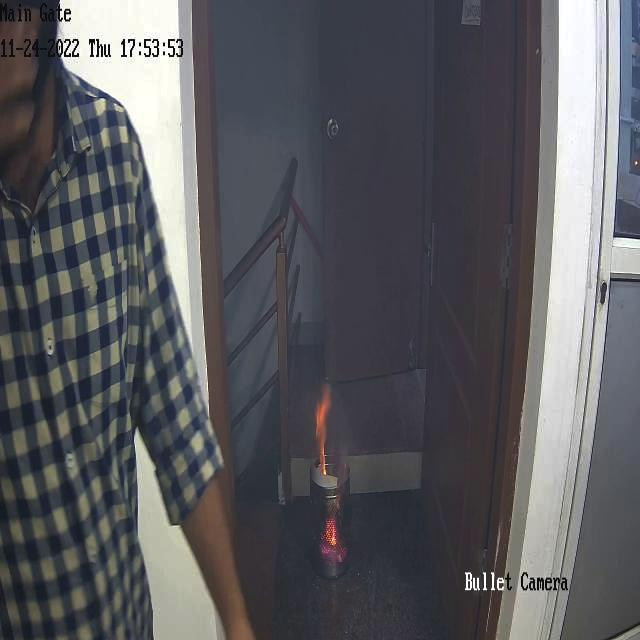fire: (310, 380, 356, 581)
smoke: (220, 12, 312, 144), (334, 15, 422, 110), (324, 266, 398, 368), (356, 134, 415, 243), (432, 436, 479, 484), (404, 392, 422, 440)
